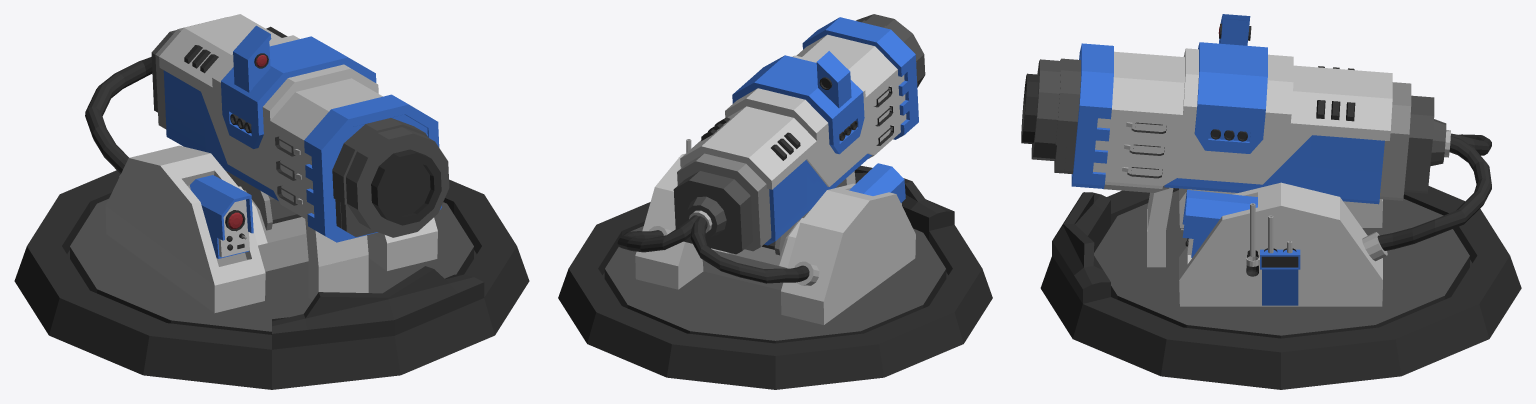
The model's file is Turret_1.fbx.
The picture shows the model from 3 angles, left to right: view 1: azimuth 30°, elevation 25°; view 2: azimuth 150°, elevation 25°; view 3: azimuth 270°, elevation 25°; orthographic projection. The views are drawn at different scales.
Visible parts, largest first — view 1: Bottom.002, Weapon_Body.002, Leg_Right.003, Bottom.003, Cube.053, Cube.052, Cylinder.060, Cylinder.061, Cylinder.076, Middle_part.001, Leg_Right.002, Cube.048 (+8 smaller); view 2: Bottom.002, Weapon_Body.002, Leg_Right.003, Cube.052, Leg_Right.002, Cube.058, Cylinder.076, Cube.053, Cube.057, Middle_part.001, Bottom.003, Cube.059 (+3 smaller); view 3: Bottom.002, Weapon_Body.002, Leg_Right.002, Cube.052, Cube.053, Bottom.003, Cylinder.076, Cube.057, Cube.045, Cube.058, Cylinder.060, Cylinder.062 (+10 smaller).
Boxes of the visible parts, x1=… form: Bottom.002: x1=14, y1=170, x2=529, y2=389; Weapon_Body.002: x1=159, y1=14, x2=382, y2=219; Leg_Right.003: x1=105, y1=145, x2=265, y2=313; Bottom.003: x1=272, y1=266, x2=484, y2=349; Cube.053: x1=304, y1=94, x2=441, y2=242; Cube.052: x1=221, y1=36, x2=376, y2=148; Cylinder.060: x1=346, y1=127, x2=449, y2=237; Cylinder.061: x1=371, y1=149, x2=441, y2=225; Cylinder.076: x1=85, y1=57, x2=152, y2=173; Middle_part.001: x1=238, y1=186, x2=308, y2=271; Leg_Right.002: x1=367, y1=217, x2=437, y2=270; Cube.048: x1=190, y1=175, x2=253, y2=258; Bottom.002: x1=558, y1=202, x2=992, y2=389; Weapon_Body.002: x1=680, y1=34, x2=906, y2=245; Leg_Right.003: x1=781, y1=183, x2=915, y2=324; Cube.052: x1=732, y1=55, x2=864, y2=154; Leg_Right.002: x1=635, y1=153, x2=703, y2=289; Cube.058: x1=673, y1=171, x2=752, y2=254; Cylinder.076: x1=617, y1=215, x2=809, y2=283; Cube.053: x1=802, y1=17, x2=918, y2=139; Cube.057: x1=677, y1=153, x2=771, y2=251; Middle_part.001: x1=702, y1=218, x2=803, y2=289; Bottom.003: x1=854, y1=165, x2=954, y2=230; Cube.059: x1=816, y1=51, x2=851, y2=108; Bottom.002: x1=1040, y1=186, x2=1521, y2=389; Weapon_Body.002: x1=1093, y1=48, x2=1392, y2=204; Leg_Right.002: x1=1179, y1=182, x2=1382, y2=306; Cube.052: x1=1194, y1=42, x2=1267, y2=153; Cube.053: x1=1071, y1=43, x2=1113, y2=188; Bottom.003: x1=1052, y1=192, x2=1110, y2=303; Cylinder.076: x1=1377, y1=133, x2=1491, y2=250; Cube.057: x1=1380, y1=82, x2=1411, y2=200; Cube.045: x1=1182, y1=189, x2=1257, y2=257; Cube.058: x1=1404, y1=95, x2=1434, y2=193; Cylinder.060: x1=1031, y1=59, x2=1060, y2=160; Cylinder.062: x1=1055, y1=58, x2=1080, y2=146.
Bounding box in the file's own units: 529 × 315 × 550.
